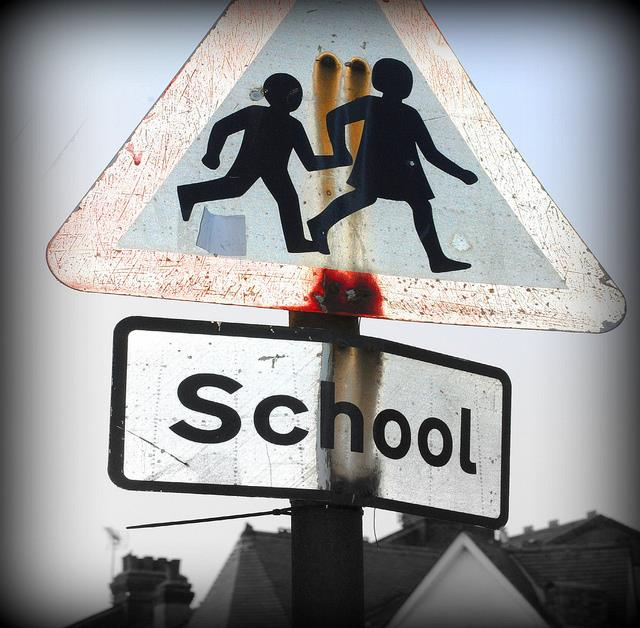road_sign_school: (45, 5, 624, 518)
